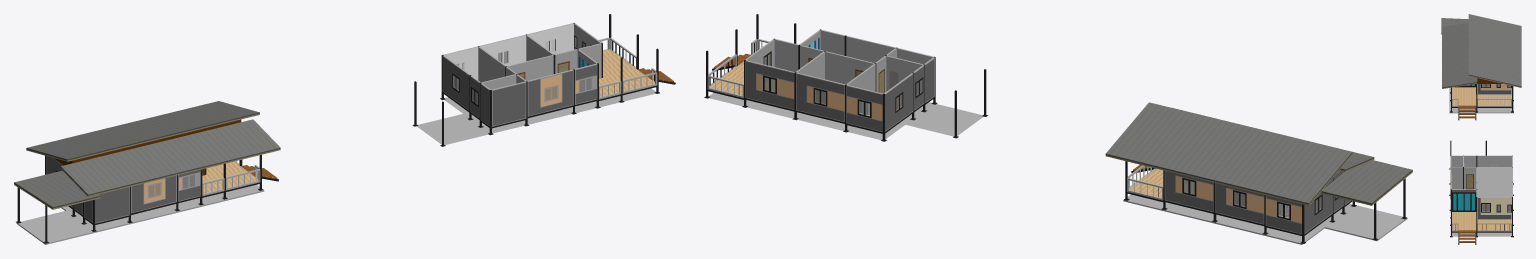
Rendered from index.glb.
The picture shows the model from 3 angles, left to right: view 1: azimuth 30°, elevation 25°; view 2: azimuth 150°, elevation 25°; view 3: azimuth 270°, elevation 25°; orthographic projection. The views are drawn at different scales.
Visible parts, largest first — view 1: y_up_convert_n3d, group__n3d241, group__n3d248, group__n3d235, group__n3d95; view 2: y_up_convert_n3d, group__n3d241, group__n3d248, group__n3d235, group__n3d95; view 3: y_up_convert_n3d, group__n3d241, group__n3d235, group__n3d95, group__n3d248, group__n3d163, group__n3d162, group__n3d15.
Part boxes in pixels (x1,y1,x2,y2): y_up_convert_n3d: (16,23,675,244); group__n3d241: (26,101,280,196); group__n3d248: (14,171,100,209); group__n3d235: (458,49,654,103); group__n3d95: (202,161,258,193); y_up_convert_n3d: (707,30,1407,244); group__n3d241: (1105,102,1374,205); group__n3d248: (1321,160,1412,205); group__n3d235: (709,55,900,108); group__n3d95: (1129,168,1319,210); y_up_convert_n3d: (1449,84,1513,244); group__n3d241: (1442,14,1521,88); group__n3d235: (1452,194,1511,230); group__n3d95: (1452,84,1511,105); group__n3d248: (1441,18,1468,34); group__n3d163: (1477,231,1511,232); group__n3d162: (1476,208,1477,237); group__n3d15: (1476,84,1477,112).
Size of the model in its own units: 53.38 by 5.27 by 9.04.
Materials: 24 (13 with a texture image).
